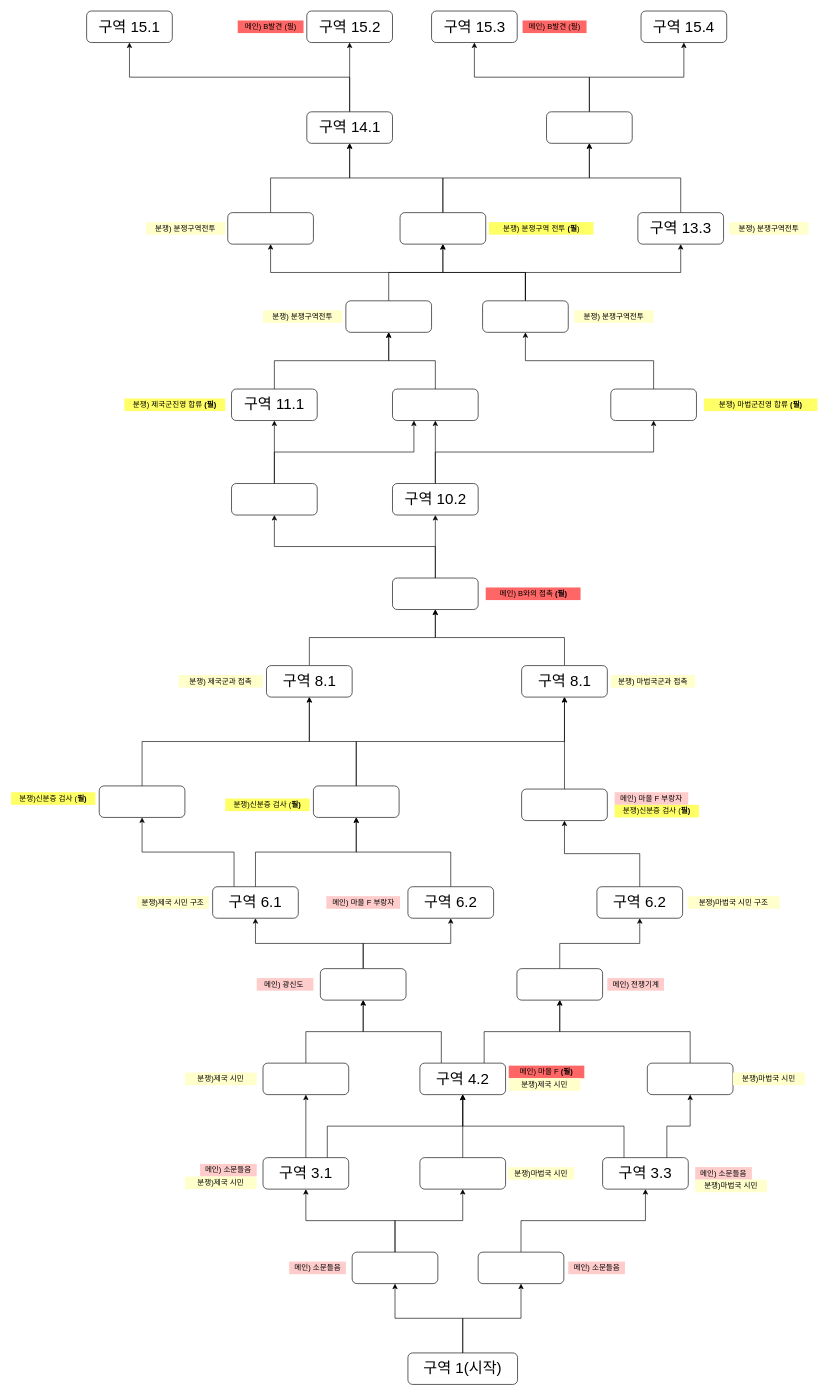
Image size: 828x1395. Some labels were removed from this diagram. Here are the shapes that lost their labels. From the top down, the centre of each, then its label:
At [589,127]: "구역 14.2".
At [270,228]: "구역 13.1".
At [442,228]: "구역 13.2".
At [388,316]: "구역 12.2".
At [525,316]: "구역 12.3".
At [435,404]: "구역 11.2".
At [653,404]: "구역 11.3".
At [274,499]: "구역 10.1".
At [435,593]: "구역 9".
At [142,801]: "구역 7.1".
At [356,801]: "구역 7.2".
At [564,804]: "구역 7.3".
At [363,984]: "구역 5.1".
At [559,984]: "구역 5.2".
At [305,1078]: "구역 4.1".
At [690,1078]: "구역 4.3".
At [462,1173]: "구역 3.2".
At [395,1267]: "구역 2.1".
At [521,1267]: "구역 2.2".
